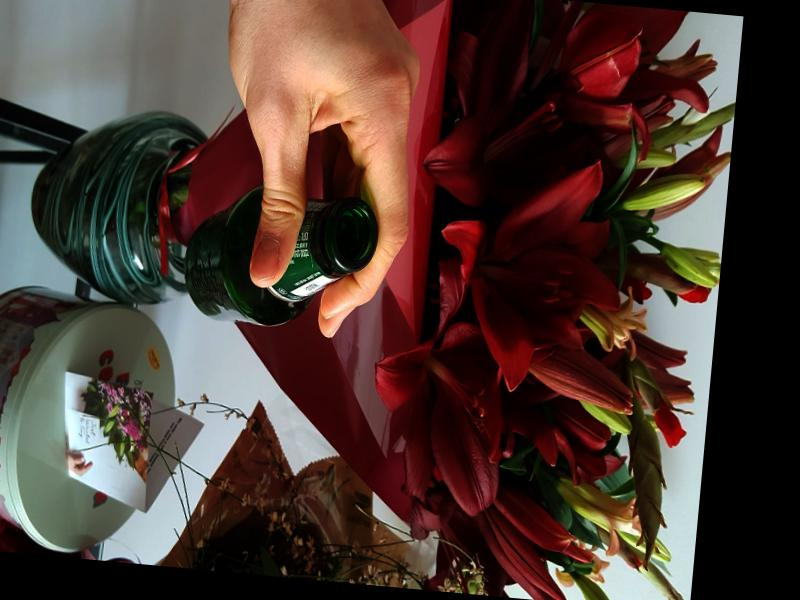Beer: (180, 178, 381, 334)
